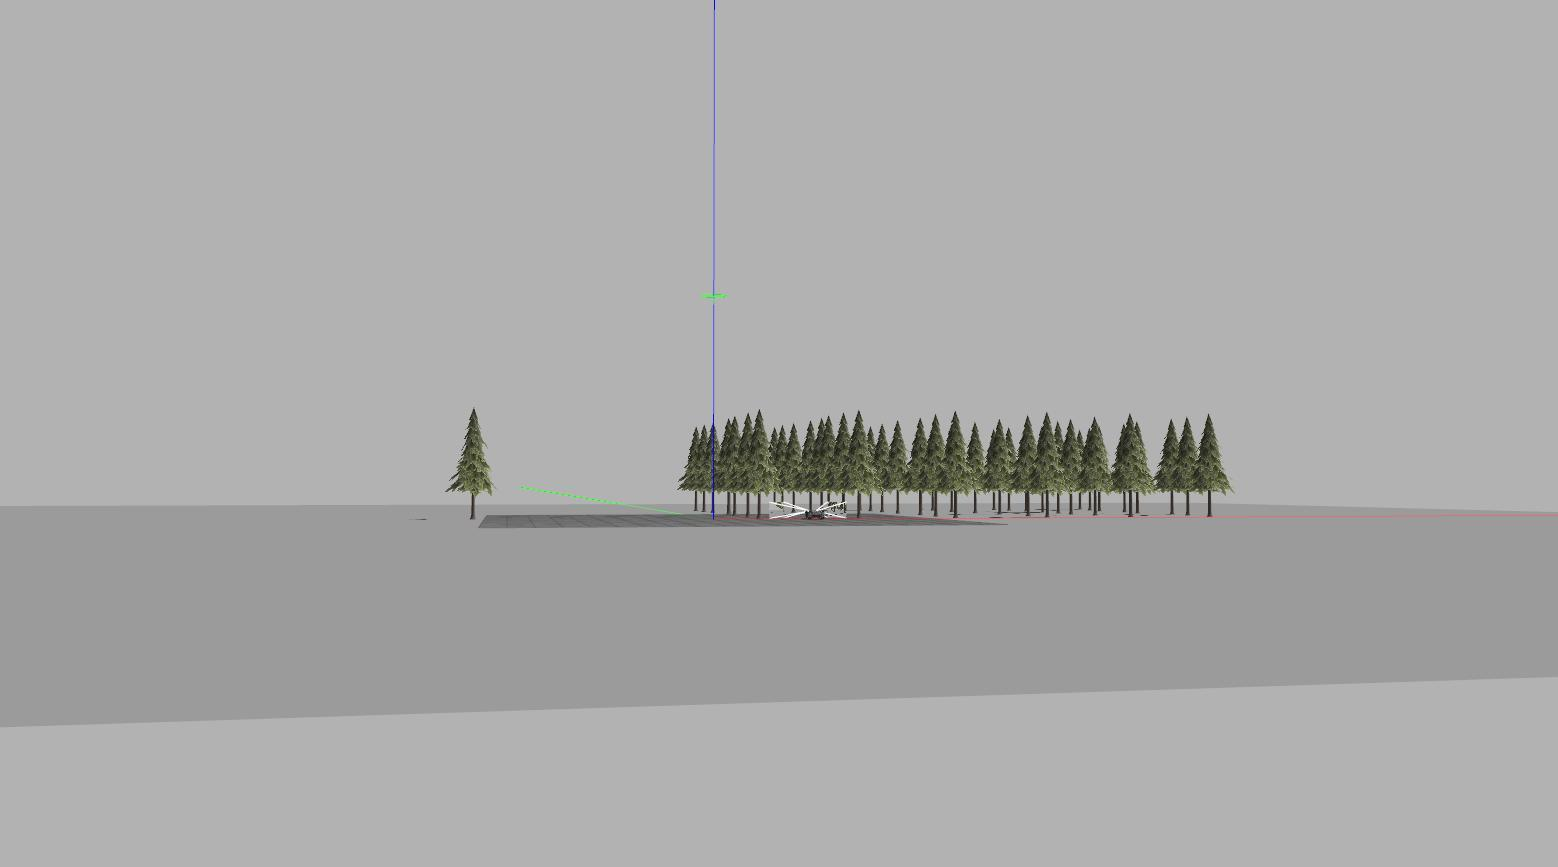tree_gazebo: (447, 411, 493, 519), (1193, 416, 1233, 516), (1172, 420, 1199, 513), (748, 411, 776, 493), (1154, 420, 1178, 491)
